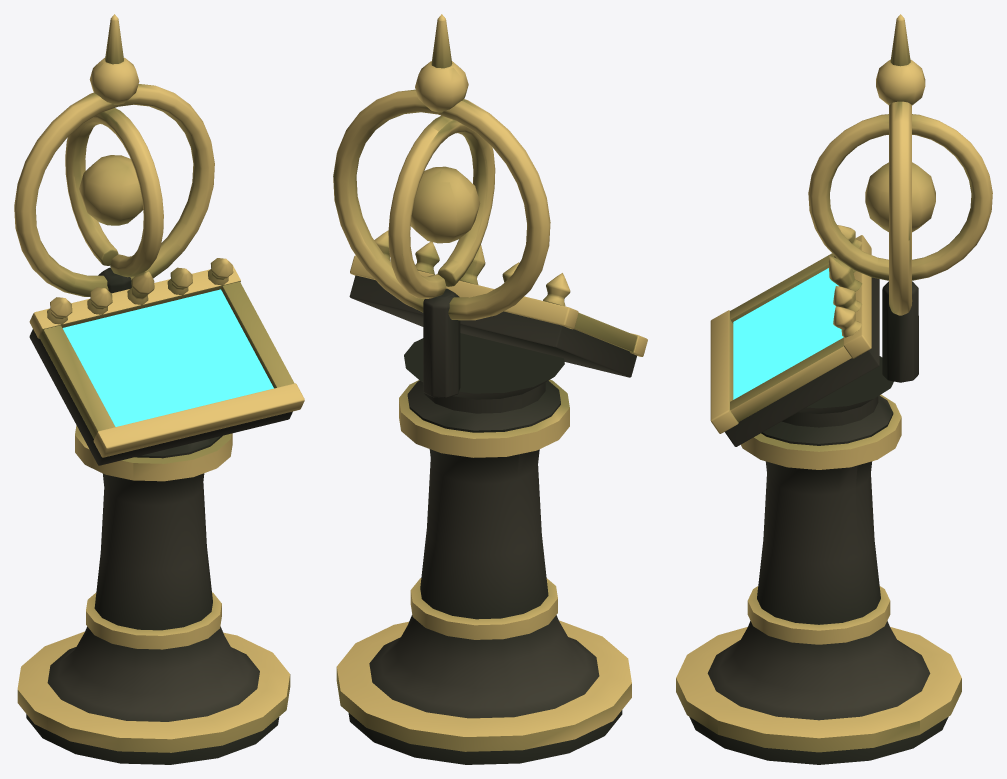
The model's file is console.glb.
3 renders of one model, left to right at view 1: azimuth 30°, elevation 25°; view 2: azimuth 150°, elevation 25°; view 3: azimuth 270°, elevation 25°, orthographic. The views are drawn at different scales.
Parts seen in each view (by area): view 1: console_body, console_head, console_glass; view 2: console_body, console_head; view 3: console_body, console_head, console_glass.
Boxes of the visible parts, x1=… form: console_body: x1=17, y1=425, x2=290, y2=764; console_head: x1=14, y1=14, x2=304, y2=465; console_glass: x1=62, y1=289, x2=273, y2=426; console_body: x1=336, y1=333, x2=631, y2=764; console_head: x1=333, y1=14, x2=647, y2=397; console_body: x1=676, y1=356, x2=961, y2=764; console_head: x1=710, y1=14, x2=992, y2=446; console_glass: x1=733, y1=268, x2=843, y2=399.
Bounding box in the file's own units: 0.77 × 2.07 × 0.8536.
